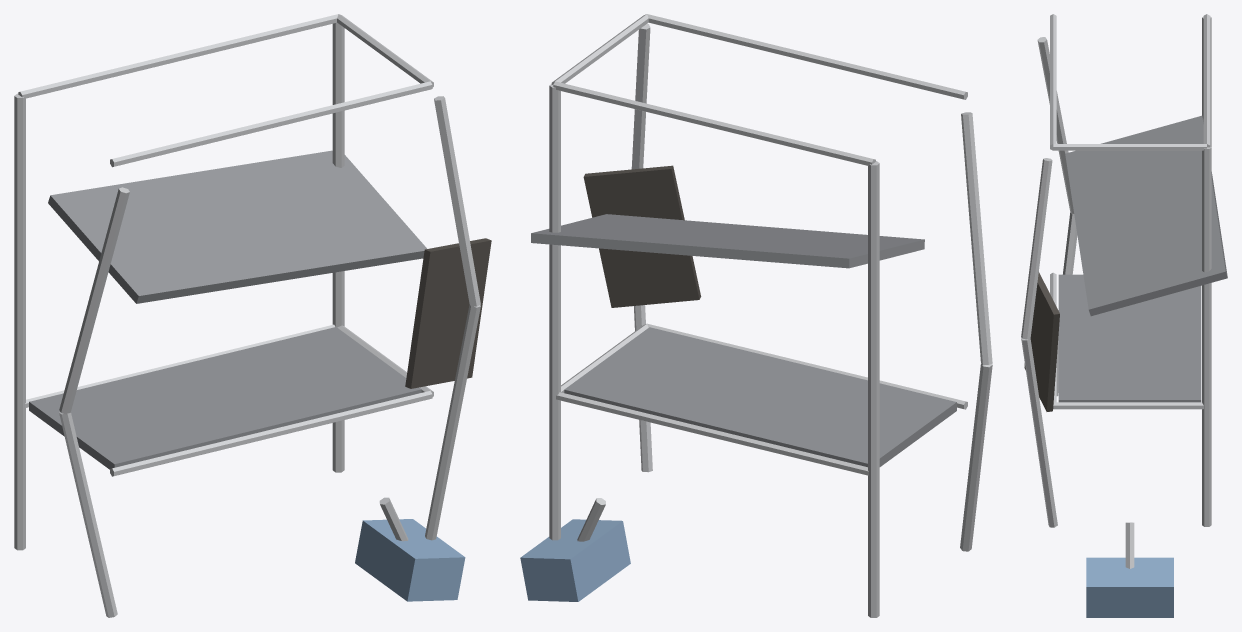
File: place_repair_scaffold_bent.glb
3 renders of one model, left to right at view 1: azimuth 30°, elevation 25°; view 2: azimuth 150°, elevation 25°; view 3: azimuth 270°, elevation 25°, orthographic. The views are drawn at different scales.
Parts seen in each view (by area): view 1: deck_sprung, deck_a, rails, scorch, clampjaw0, post2, post0, post1a, post3b, post3a, post1b; view 2: deck_a, deck_sprung, rails, scorch, clampjaw0, post2, post0, post3b, post3a, post1b, post1a; view 3: deck_sprung, deck_a, clampjaw0, rails, post0, scorch, post1a, post1b, post3b, post3a, post2, clamparm0.
Boxes of the visible parts, box(x1,y1,x2,y2) form: deck_sprung: box(48, 150, 426, 303); deck_a: box(29, 327, 421, 469); rails: box(18, 14, 433, 476); scorch: box(405, 238, 491, 388); clampjaw0: box(355, 519, 465, 601); post2: box(14, 93, 25, 550); post0: box(332, 22, 344, 472); post1a: box(425, 304, 480, 540); post3b: box(59, 187, 129, 414); post3a: box(59, 412, 117, 617); post1b: box(434, 96, 480, 306); deck_a: box(564, 327, 956, 467); deck_sprung: box(531, 214, 924, 268); rails: box(551, 14, 967, 475); scorch: box(583, 165, 701, 307); clampjaw0: box(520, 519, 630, 601); post2: box(868, 161, 879, 617); post0: box(549, 84, 560, 540); post3b: box(961, 112, 992, 365); post3a: box(960, 363, 992, 551); post1b: box(631, 23, 650, 169); post1a: box(634, 305, 652, 472); deck_sprung: box(1065, 115, 1227, 316); deck_a: box(1058, 274, 1201, 402); clampjaw0: box(1086, 557, 1173, 617); rails: box(1050, 14, 1210, 409); post0: box(1202, 146, 1211, 526); scorch: box(1024, 272, 1059, 411); post1a: box(1021, 337, 1057, 527); post1b: box(1021, 158, 1052, 339); post3b: box(1037, 37, 1074, 213); post3a: box(1056, 212, 1077, 396); post2: box(1202, 16, 1211, 146); clamparm0: box(1125, 522, 1134, 568).
Size of the model in its own units: 7.37 by 9.15 by 3.77.
